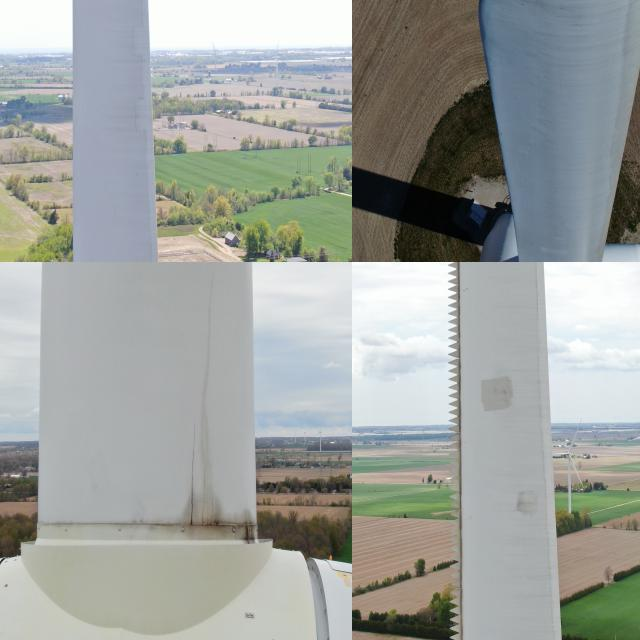damage: (174, 416, 266, 562)
